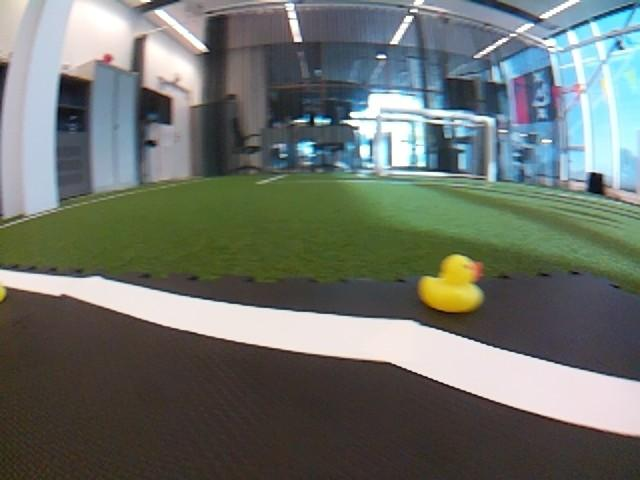Duckies: (417, 254, 485, 314)
